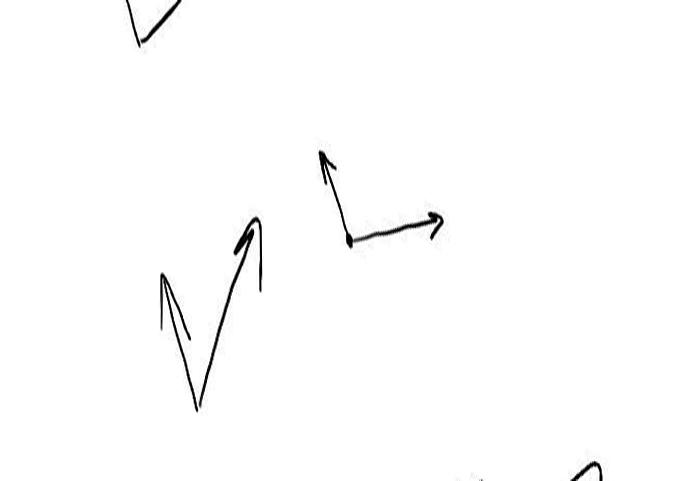arrow: (199, 214, 264, 406), (157, 270, 196, 412), (354, 208, 444, 242), (316, 150, 349, 237)
arrownohead: (145, 1, 182, 43), (124, 1, 140, 46)
